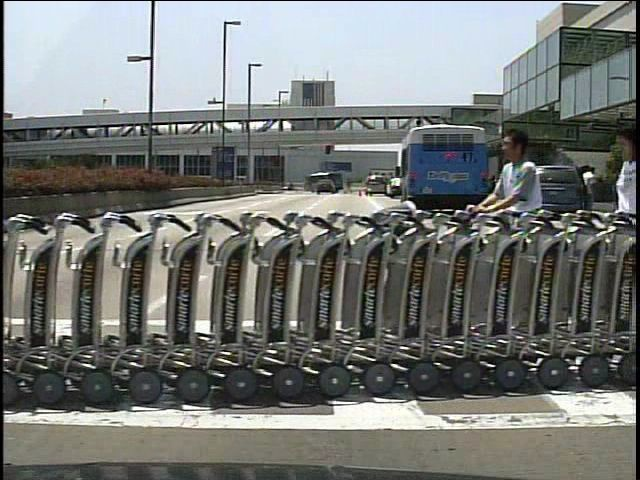person: (468, 126, 557, 364), (596, 117, 640, 332), (580, 164, 601, 215), (577, 163, 594, 216), (345, 176, 352, 196)
